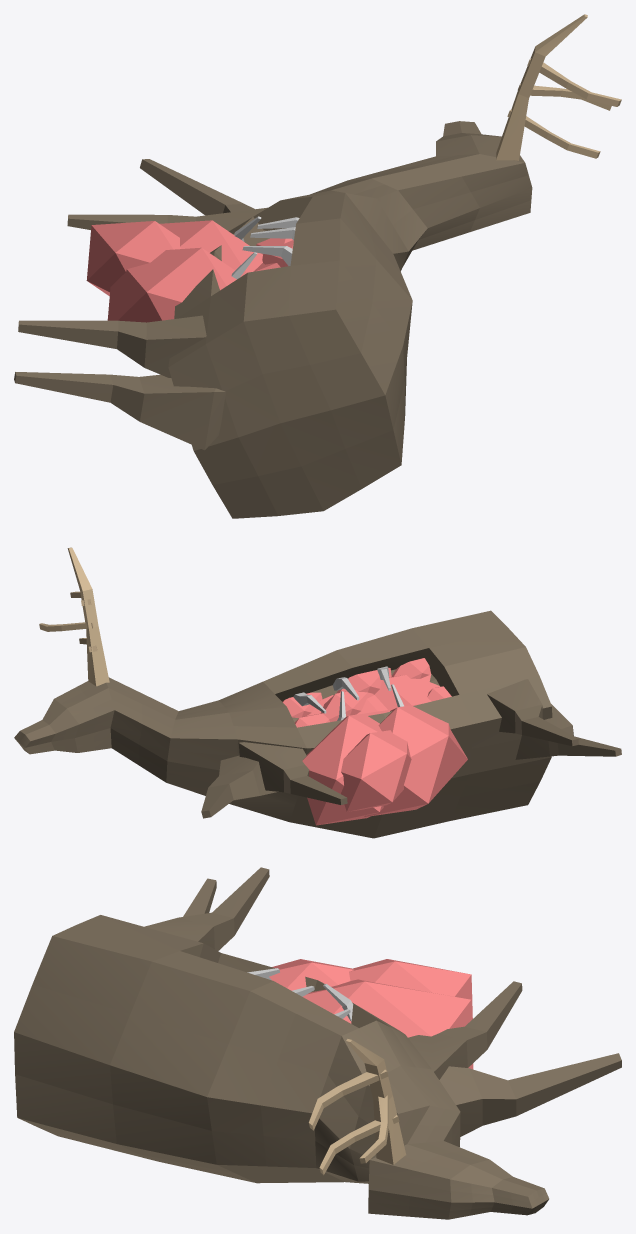
File: Chevreuil.fbx
The picture shows the model from 3 angles, top to bottom: view 1: azimuth 30°, elevation 25°; view 2: azimuth 150°, elevation 25°; view 3: azimuth 270°, elevation 25°; orthographic projection. The views are drawn at different scales.
Parts seen in each view (by area): view 1: Cube, Cube__3_, Icosphere__9_, Cube__1_, Icosphere__11_, Bois, Icosphere__10_, Cube__2_, Cube_2, Bois_2, Bois_3; view 2: Cube, Icosphere__9_, Icosphere__11_, Icosphere__10_, Cube_2, Cube__1_, Cube__2_, Cube__3_, Bois, Icosphere__2_, Icosphere__7_, Icosphere__5_ (+2 smaller); view 3: Cube, Cube__2_, Icosphere__10_, Cube_2, Cube__1_, Icosphere__11_, Bois, Icosphere__9_, Bois_2, Bois_3, Bois_1, Cube__3_.
Boxes of the visible parts, x1,y1,x2,y2 form: Cube: (168, 121, 532, 518); Cube__3_: (14, 372, 225, 450); Icosphere__9_: (107, 247, 242, 322); Cube__1_: (18, 315, 206, 377); Icosphere__11_: (86, 221, 180, 295); Bois: (496, 14, 587, 160); Icosphere__10_: (160, 220, 262, 275); Cube__2_: (140, 159, 254, 215); Cube_2: (67, 207, 267, 231); Bois_2: (527, 58, 621, 106); Bois_3: (507, 109, 600, 158); Cube: (14, 610, 552, 838); Icosphere__9_: (364, 704, 467, 816); Icosphere__11_: (341, 730, 411, 811); Icosphere__10_: (302, 709, 391, 825); Cube_2: (238, 742, 347, 804); Cube__1_: (487, 679, 578, 746); Cube__2_: (201, 755, 278, 818); Cube__3_: (515, 704, 621, 759); Bois: (67, 547, 109, 686); Icosphere__2_: (374, 674, 439, 709); Icosphere__7_: (321, 690, 373, 721); Icosphere__5_: (336, 667, 391, 694); Cube: (14, 915, 549, 1219); Cube__2_: (439, 1053, 621, 1136); Icosphere__10_: (303, 979, 473, 1069); Cube_2: (408, 981, 522, 1079); Cube__1_: (144, 867, 269, 950); Icosphere__11_: (349, 959, 472, 1019); Bois: (346, 1039, 406, 1164); Icosphere__9_: (269, 959, 353, 990); Bois_2: (308, 1069, 388, 1130); Bois_3: (319, 1115, 399, 1174); Bois_1: (359, 1095, 388, 1163); Cube__3_: (183, 878, 216, 916).
Bounding box in the file's own units: 360 × 155 × 276.
